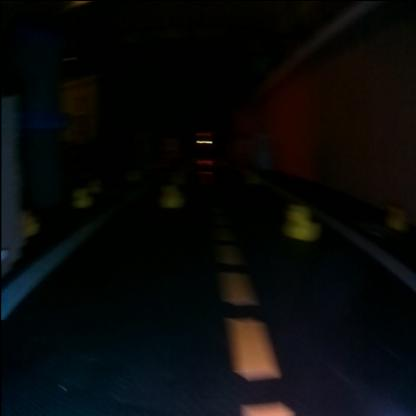Duckie: (285, 204, 319, 236), (160, 184, 180, 208), (22, 208, 38, 236), (388, 206, 407, 228), (72, 186, 90, 207), (89, 176, 99, 190)
